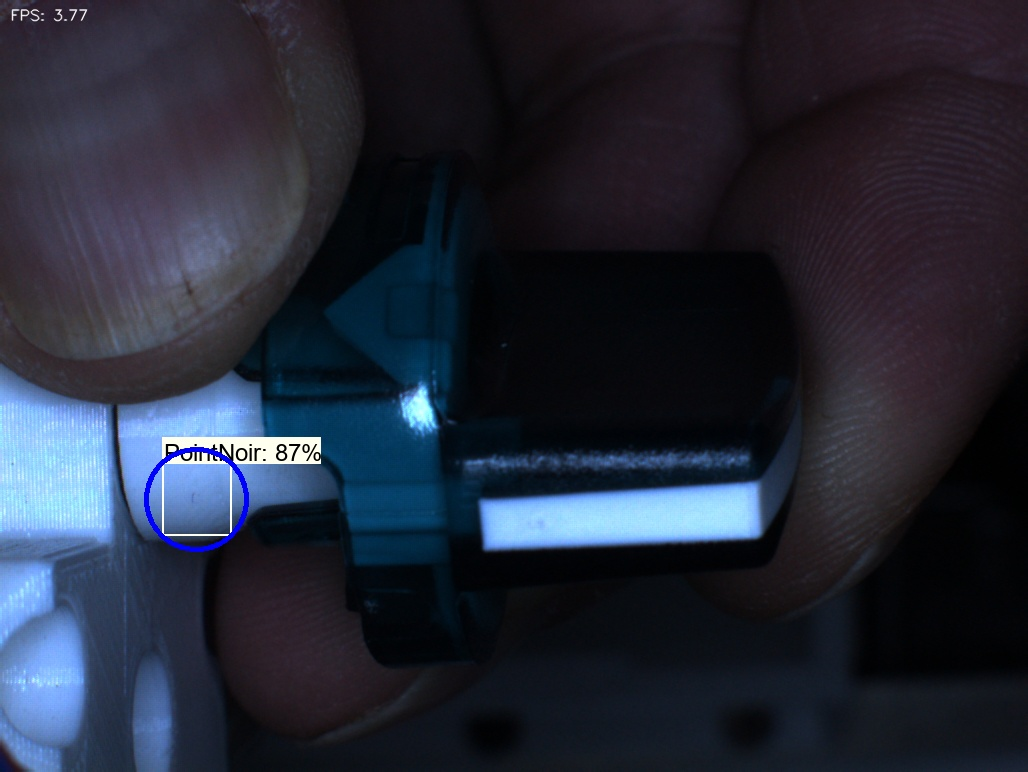DentOk: (297, 266, 372, 368)
